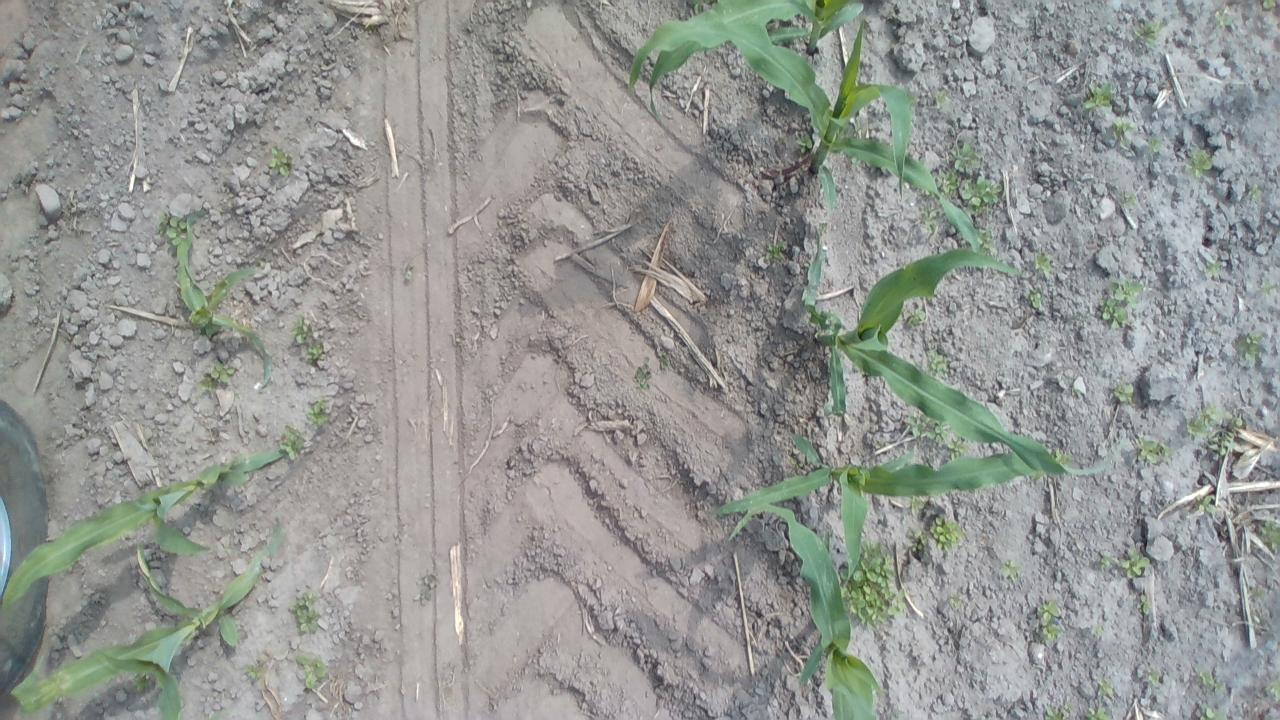Maize: (622, 21, 999, 253), (800, 240, 1116, 479), (12, 519, 288, 716), (0, 437, 298, 610), (708, 436, 1060, 582), (724, 497, 887, 720), (644, 2, 866, 114), (168, 214, 278, 386)
Weeds: (836, 540, 905, 634), (938, 139, 1009, 212), (1180, 400, 1244, 456), (1097, 278, 1144, 328), (901, 410, 956, 448), (290, 315, 326, 368), (290, 588, 322, 637), (930, 513, 966, 555), (1096, 550, 1150, 578), (266, 142, 300, 185), (1180, 146, 1216, 184), (196, 359, 238, 391), (306, 396, 338, 437), (971, 220, 1005, 258), (294, 652, 329, 688), (1232, 327, 1262, 368), (154, 212, 194, 242), (1132, 18, 1170, 48), (1038, 600, 1065, 642), (917, 207, 946, 246), (1196, 666, 1228, 698), (1130, 588, 1158, 624), (1134, 434, 1170, 462), (408, 571, 436, 607), (1081, 82, 1115, 110), (1026, 253, 1058, 282), (628, 358, 656, 391), (278, 426, 305, 460), (762, 238, 792, 266), (922, 352, 954, 378), (1259, 516, 1280, 554), (943, 438, 972, 464), (1108, 380, 1137, 406), (926, 87, 955, 112), (1148, 669, 1172, 698), (1108, 115, 1130, 146), (240, 664, 266, 690), (1192, 703, 1228, 720), (1141, 134, 1164, 160), (1042, 703, 1080, 718), (997, 559, 1025, 579), (1216, 13, 1244, 33), (125, 672, 148, 696), (909, 530, 930, 556), (1115, 190, 1142, 210), (794, 129, 816, 153), (1244, 584, 1266, 607), (906, 308, 928, 330), (948, 592, 968, 616), (1196, 492, 1216, 516), (1088, 624, 1111, 644), (1100, 679, 1118, 703), (1024, 288, 1043, 310), (656, 349, 674, 372), (398, 264, 418, 284), (1086, 704, 1112, 718), (1206, 252, 1220, 278), (1245, 181, 1260, 205), (1254, 279, 1274, 297), (1267, 684, 1280, 708), (1258, 0, 1280, 12)
